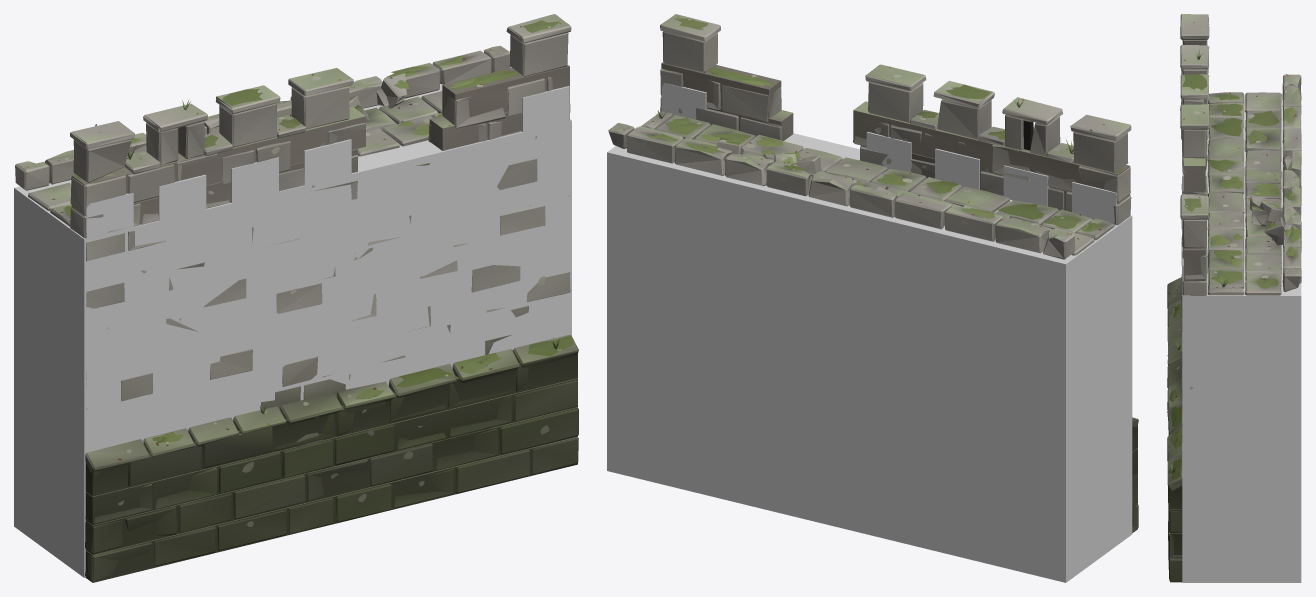
Rendered from curtain_b.glb.
3 renders of one model, left to right at view 1: azimuth 30°, elevation 25°; view 2: azimuth 150°, elevation 25°; view 3: azimuth 270°, elevation 25°, orthographic. The views are drawn at different scales.
Visible parts, largest first — view 1: curtain_b_shadow, curtain_b; view 2: curtain_b_shadow, curtain_b; view 3: curtain_b_shadow, curtain_b.
Part boxes in pixels (left/top/right/bottom): curtain_b_shadow: left=14, top=84, right=571, bottom=577; curtain_b: left=15, top=14, right=578, bottom=582; curtain_b_shadow: left=607, top=83, right=1132, bottom=582; curtain_b: left=608, top=14, right=1138, bottom=532; curtain_b_shadow: left=1182, top=94, right=1301, bottom=582; curtain_b: left=1167, top=14, right=1301, bottom=582.
Size of what is drawn, in the model's own units: 10.4 by 9.05 by 2.94.
